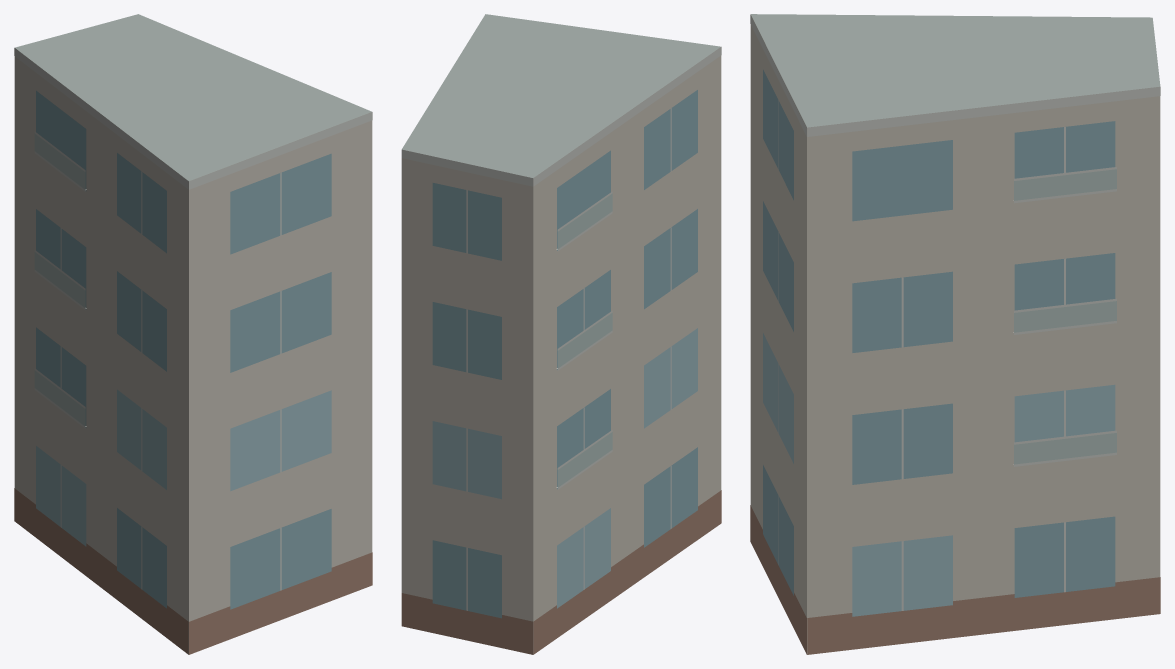
File: survey-upis-32895216.glb
The picture shows the model from 3 angles, left to right: view 1: azimuth 30°, elevation 25°; view 2: azimuth 150°, elevation 25°; view 3: azimuth 270°, elevation 25°; orthographic projection. The views are drawn at different scales.
Parts seen in each view (by area): view 1: survey-upis-32895216.tmp; view 2: survey-upis-32895216.tmp; view 3: survey-upis-32895216.tmp.
Boxes of the visible parts, x1,y1,x2,y2 form: survey-upis-32895216.tmp: (14,14,372,654); survey-upis-32895216.tmp: (401,14,721,654); survey-upis-32895216.tmp: (750,14,1160,654).
Bounding box in the file's own units: 6.29 × 13.6 × 9.6.
